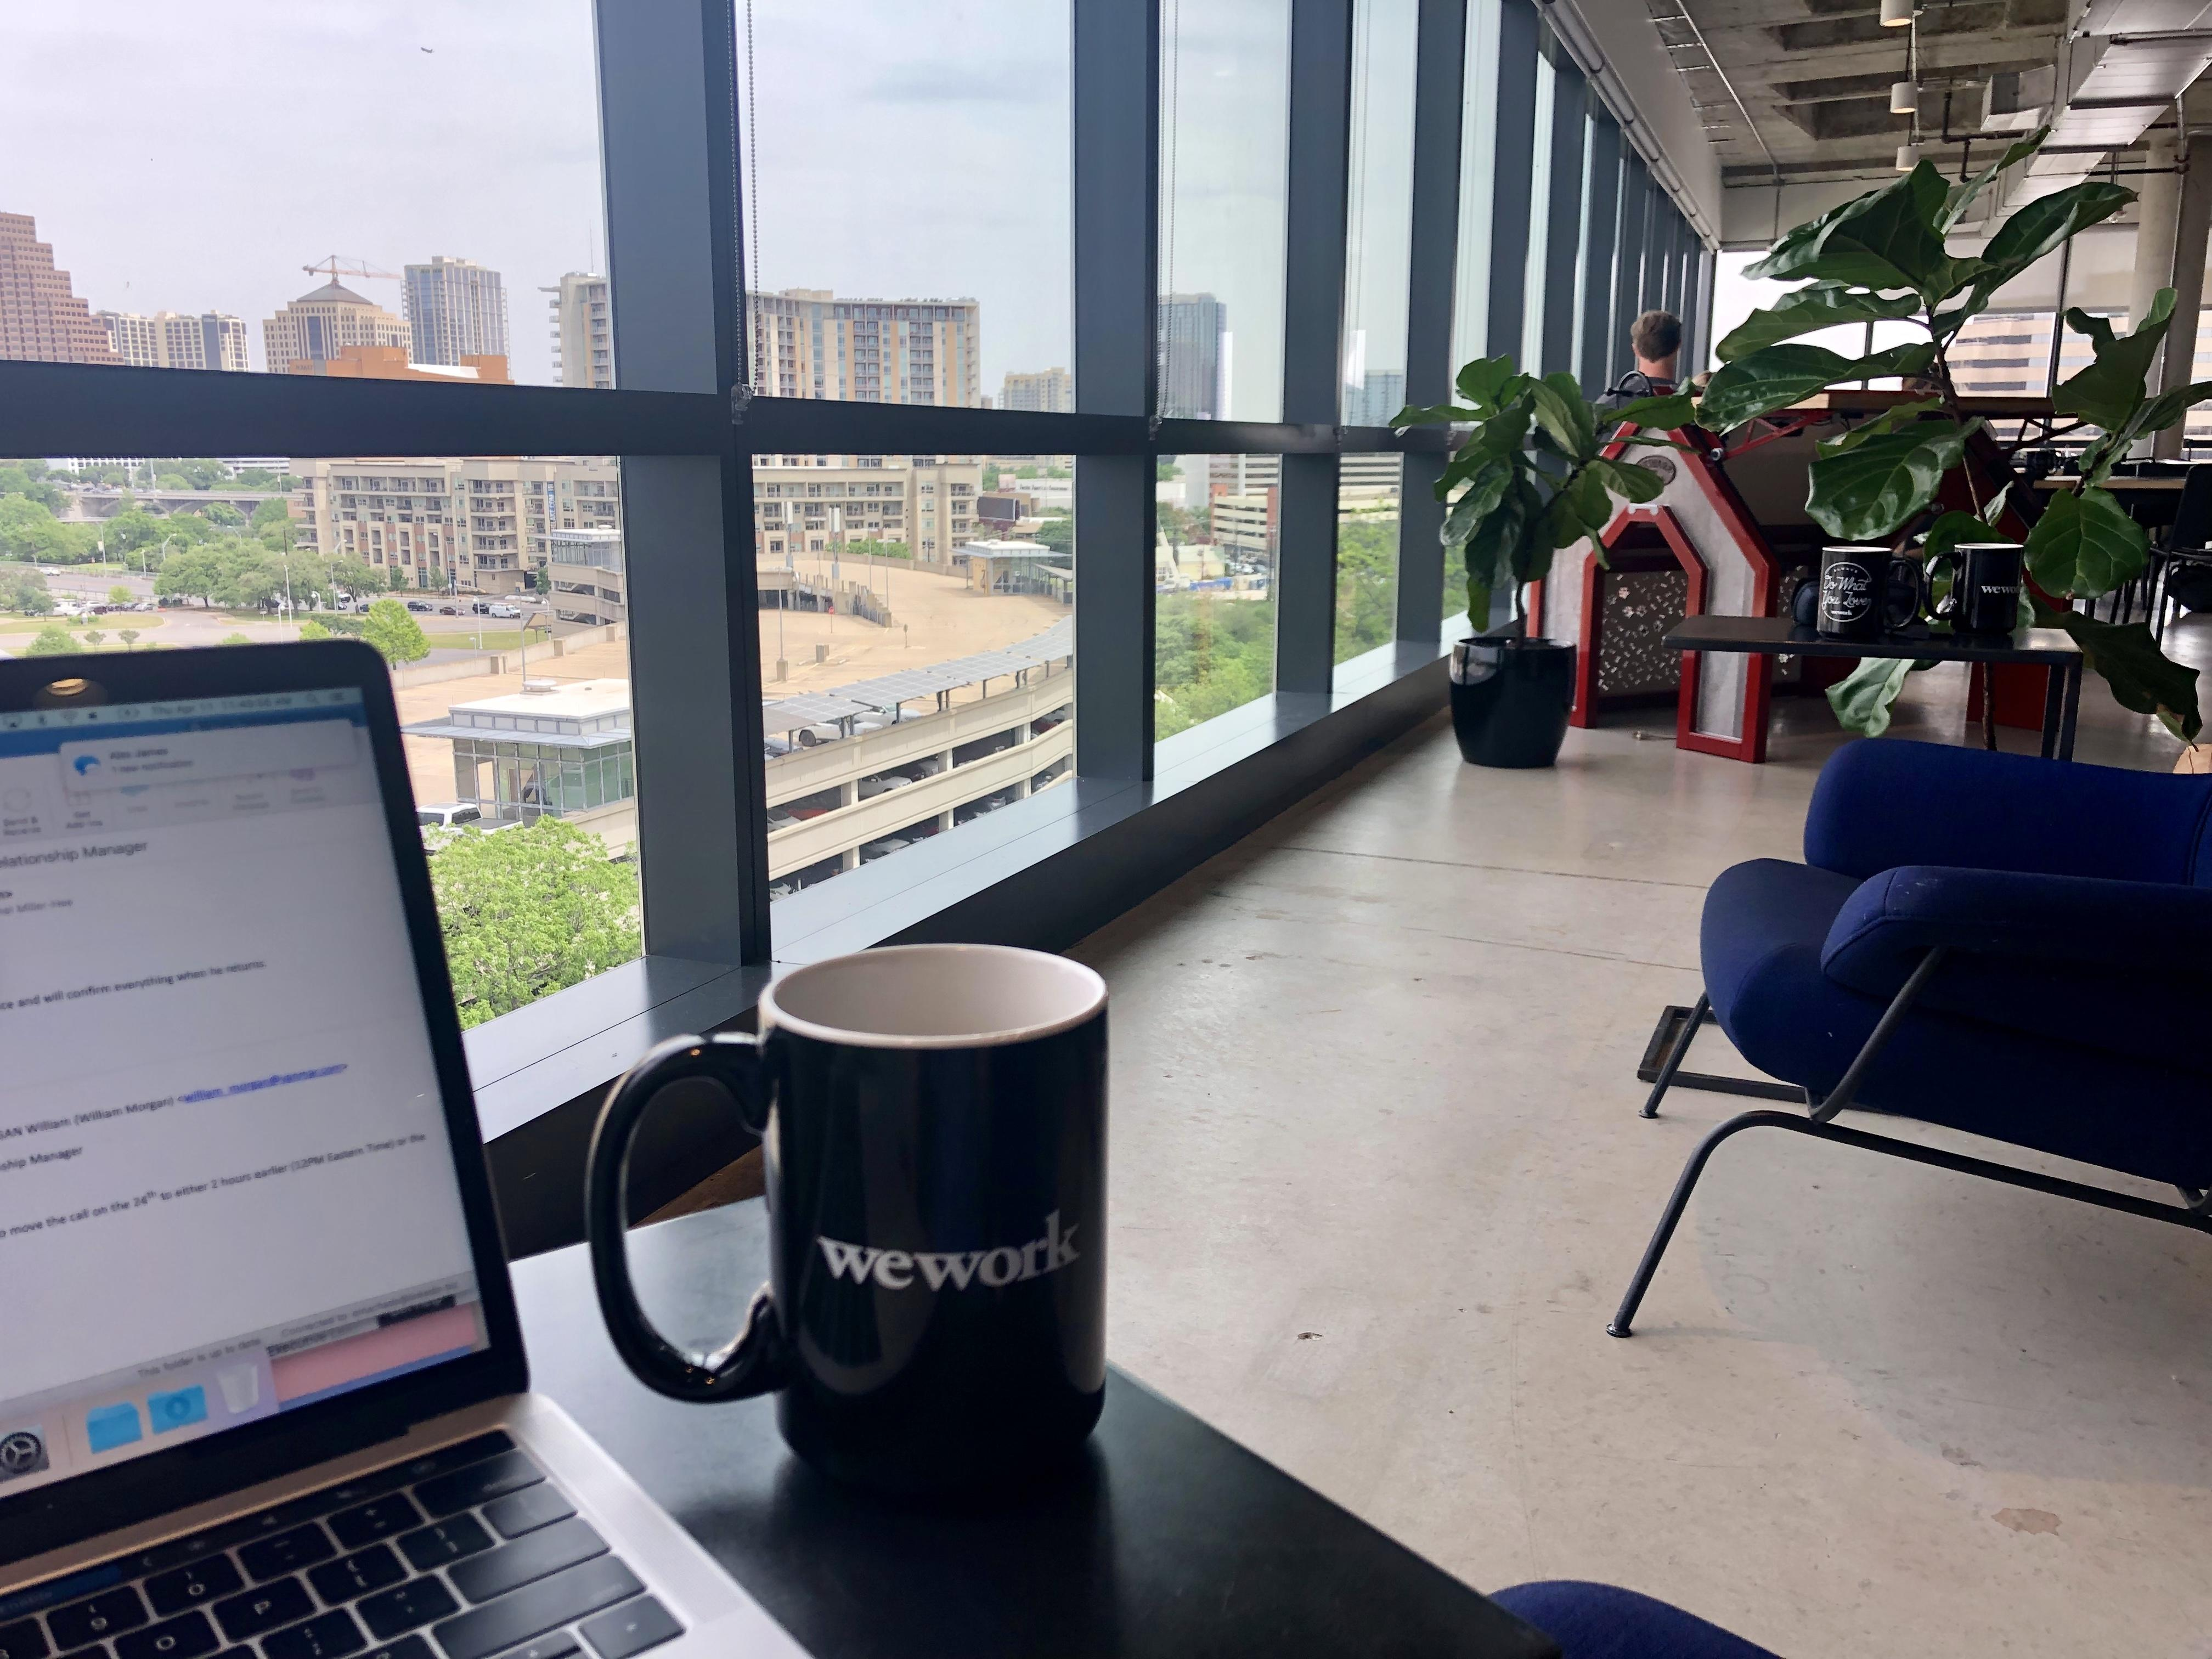wework: (808, 1204, 1089, 1298)
